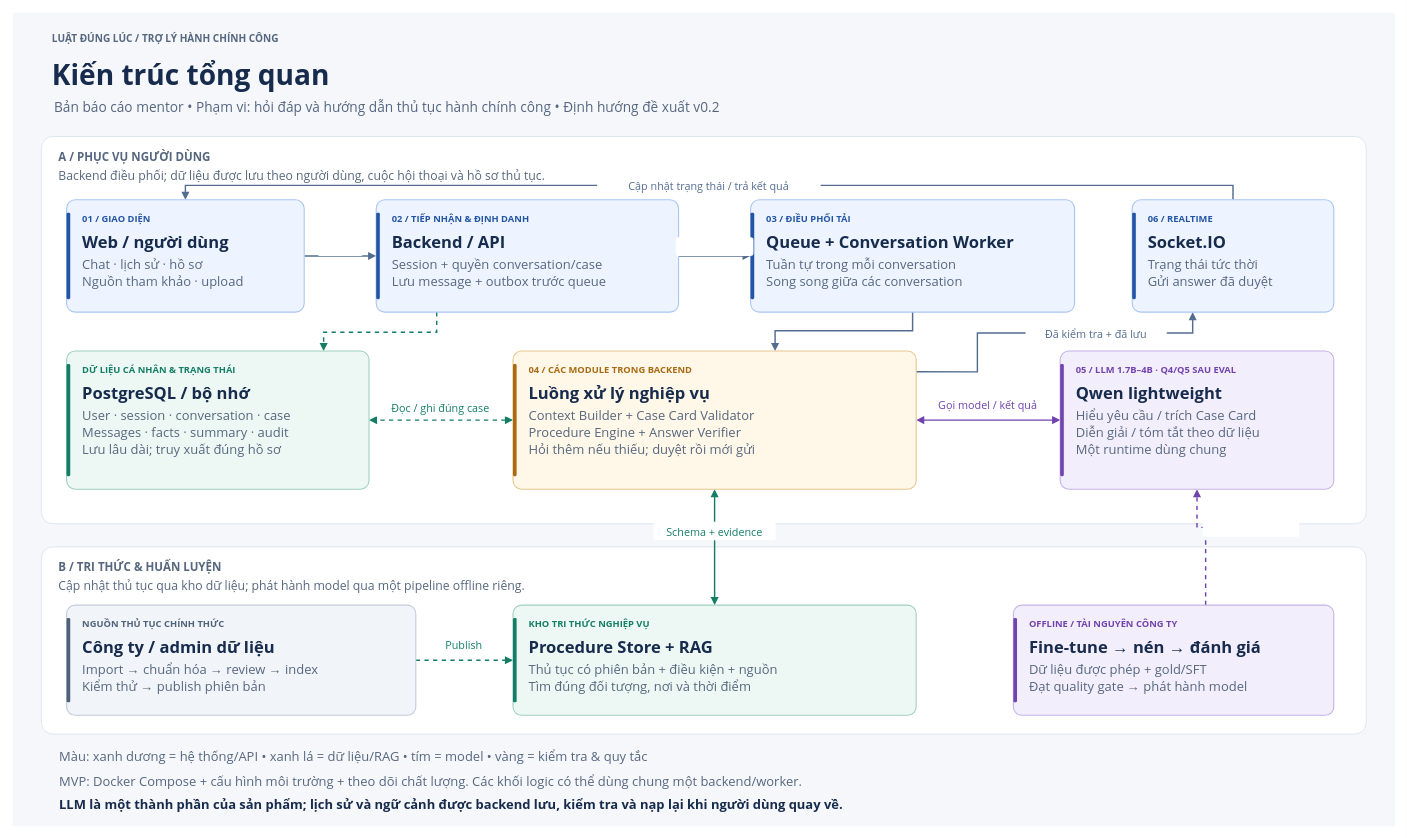
This 1407x838 diagram has some shape labels left out. The centre of each missing label's shape, as x and y in pixels:
HTTPS: point (340, 246)
Model version: point (1250, 527)
Sau commit: point (714, 246)
